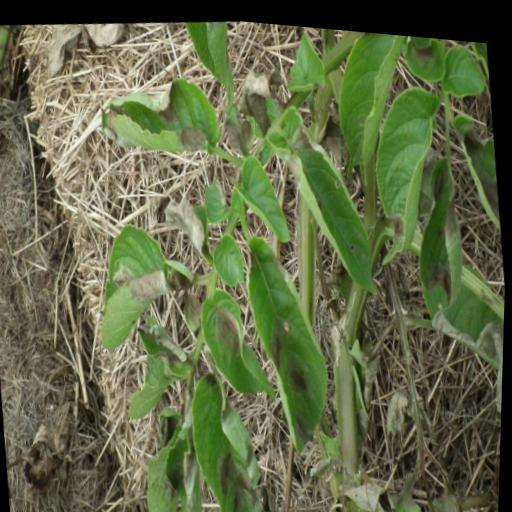Early Blight: (233, 220, 344, 458), (367, 73, 461, 264), (179, 360, 276, 512), (90, 216, 192, 357), (93, 67, 225, 172), (407, 146, 478, 321), (195, 272, 280, 407)
